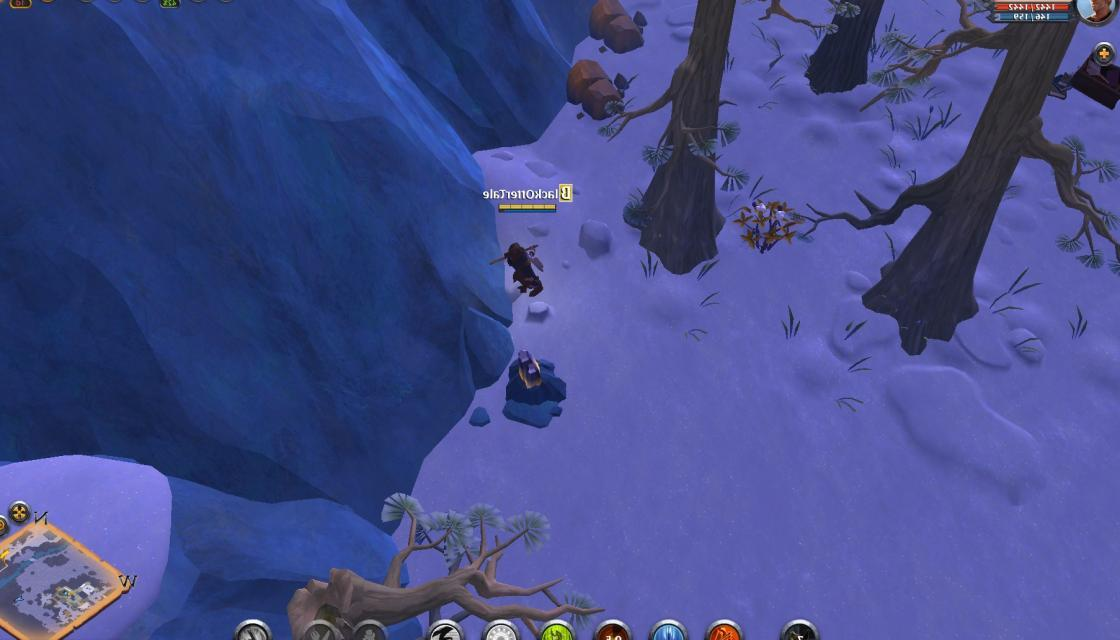copperore: (504, 344, 564, 416)
limestone: (566, 54, 627, 118), (589, 0, 646, 56)
